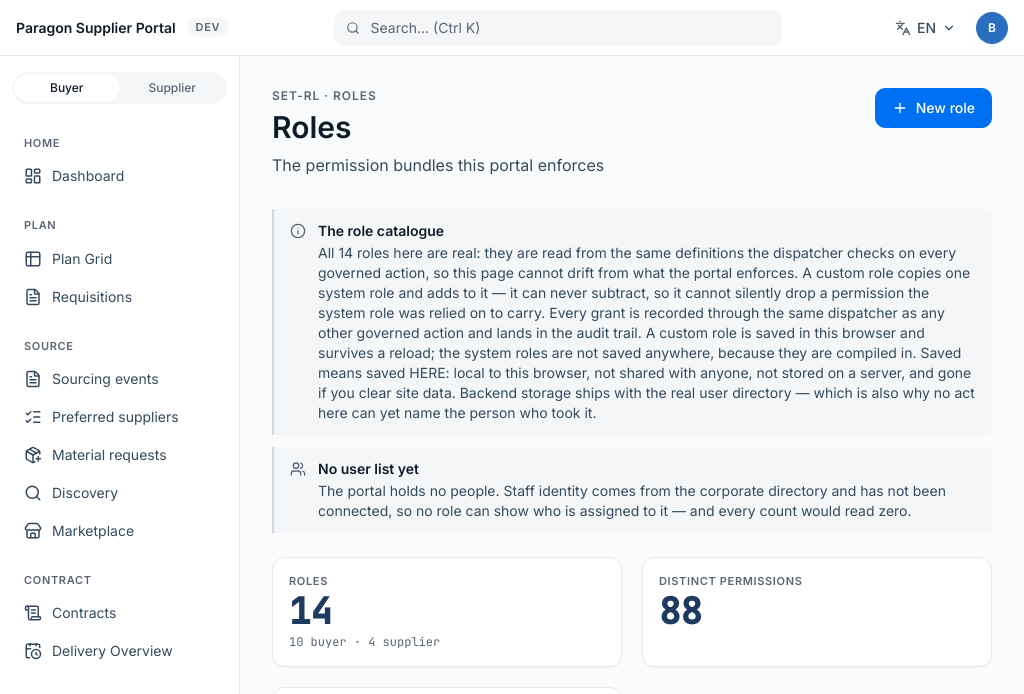
Test case: ⚠️ EDITING IS COMPLIANCE-GATED — THE FIRST ROLE-GATED SURFACE › a seat WITHOUT role:grant gets the wait, not a gap
The width and height of the screenshot is (1024, 694).
Click the button with test id "roles-new" at [933, 108], box [875,88,992,128]
(page scrolled)
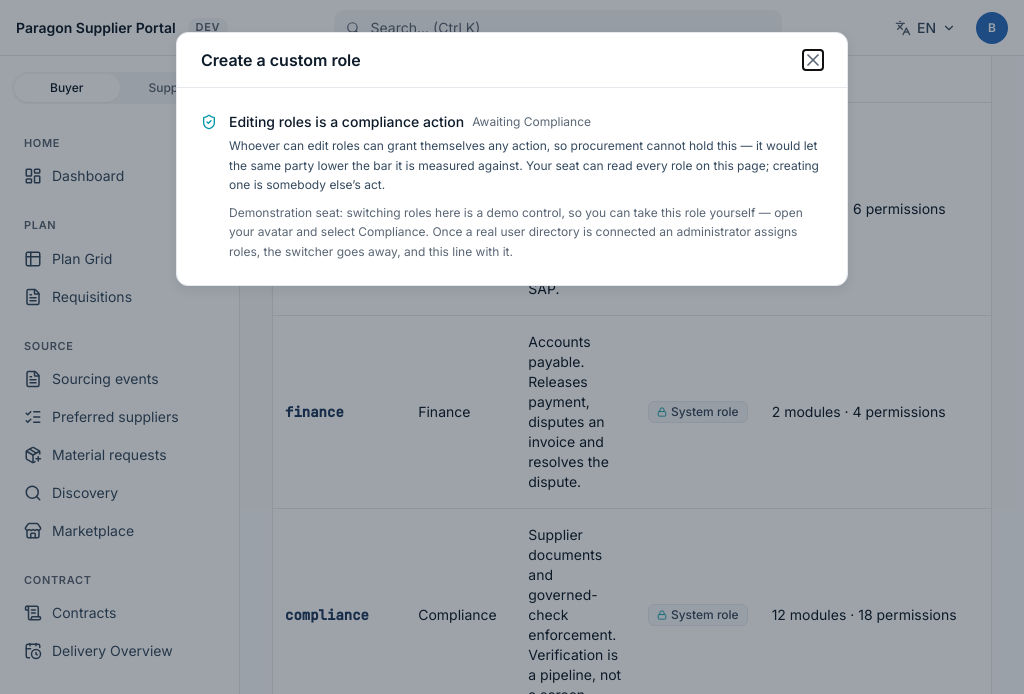
Check: the dialog with test id "roles-create-dialog" is shown, box [176,32,848,286]
Check: the element with test id "roles-create-gate" shows "compliance action", box [229,113,464,130]
Check: the text with test id "roles-create-handoff" shows "Compliance", box [472,114,591,129]
